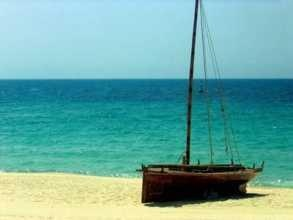otherboat: (137, 153, 268, 206)
